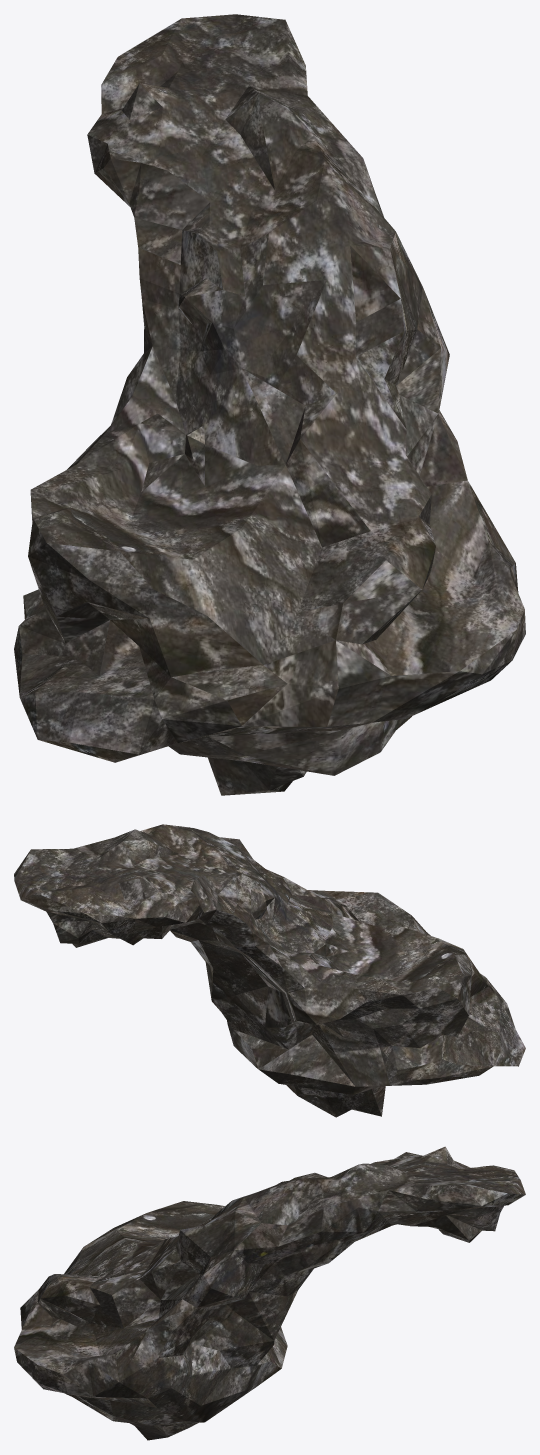
The model's file is CurvyRock.fbx.
The picture shows the model from 3 angles, top to bottom: view 1: azimuth 30°, elevation 25°; view 2: azimuth 150°, elevation 25°; view 3: azimuth 270°, elevation 25°; orthographic projection. The views are drawn at different scales.
Parts seen in each view (by area): view 1: Curve; view 2: Curve; view 3: Curve.
Part boxes in pixels (left/top/right/bottom): Curve: left=14, top=14, right=525, bottom=795; Curve: left=14, top=824, right=525, bottom=1117; Curve: left=14, top=1146, right=525, bottom=1440.
Size of the model in its own units: 9139 by 8938 by 12480.
